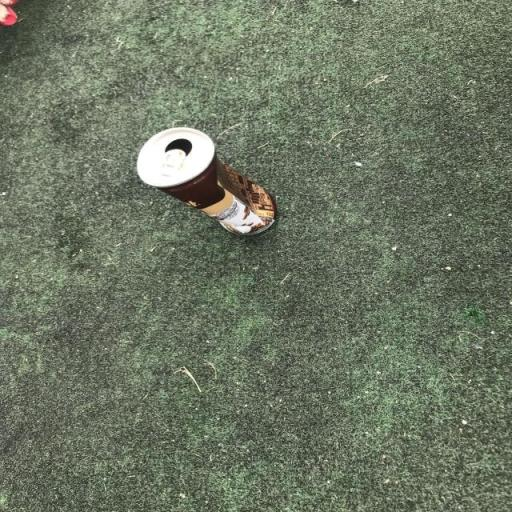metal: (119, 110, 282, 252)
